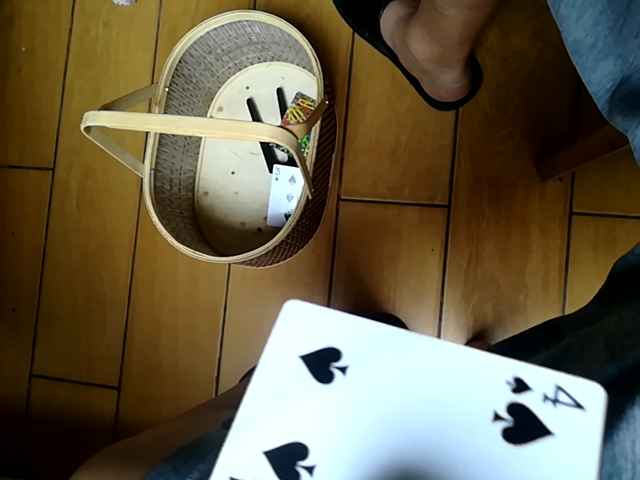ht 4: (206, 299, 604, 478)
